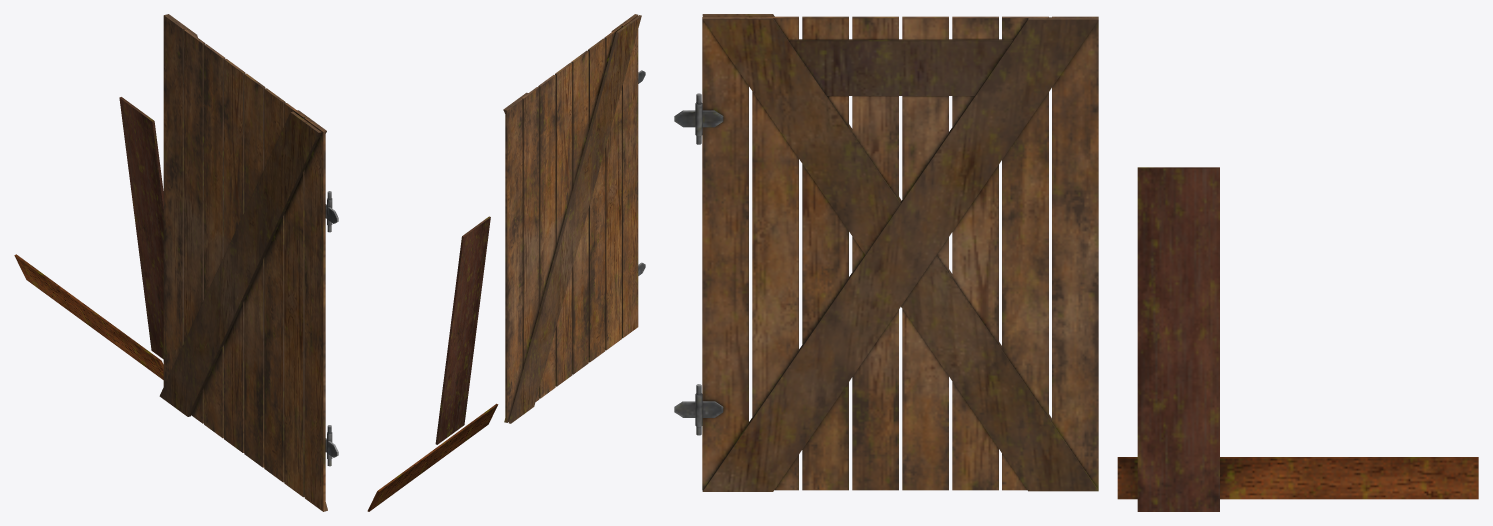
File: doors.fbx
3 views of the same model, side by side, from view 1: azimuth 30°, elevation 25°; view 2: azimuth 150°, elevation 25°; view 3: azimuth 270°, elevation 25° (orthographic). The views are drawn at different scales.
Visible parts, largest first — view 1: Cube.002, Cube.004, Cylinder.001; view 2: Cube.002, Cube.004; view 3: Cube.002, Cube.004, Cylinder.001.
Boxes of the visible parts, x1=… form: Cube.002: x1=159, y1=14, x2=327, y2=511; Cube.004: x1=14, y1=97, x2=163, y2=379; Cylinder.001: x1=327, y1=191, x2=338, y2=466; Cube.002: x1=503, y1=14, x2=641, y2=423; Cube.004: x1=367, y1=216, x2=498, y2=511; Cube.002: x1=702, y1=14, x2=1098, y2=491; Cube.004: x1=1117, y1=167, x2=1478, y2=511; Cylinder.001: x1=674, y1=93, x2=702, y2=435.
Size of the model in its own units: 23.75 by 201 by 310.
1 material, 1 textured.
